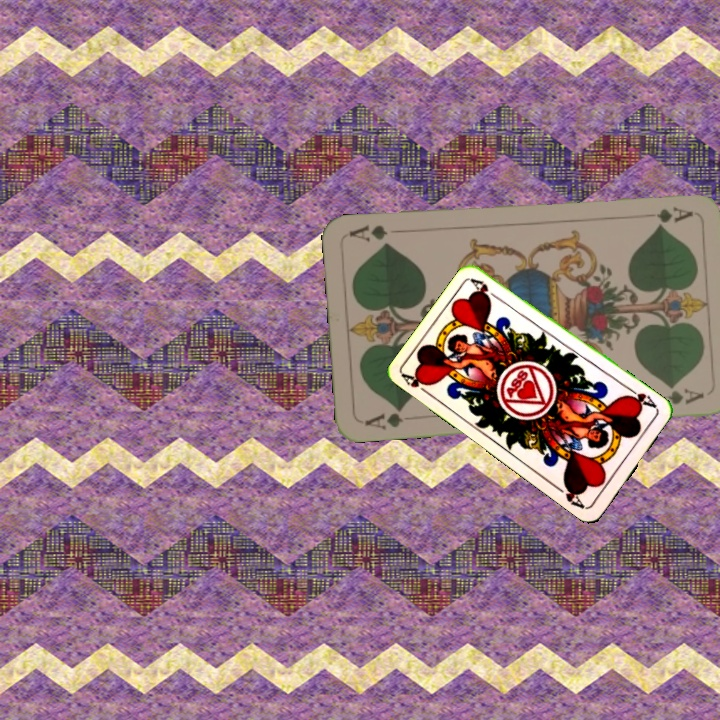GA: (361, 404, 419, 432), (635, 203, 695, 226)
HA: (621, 383, 660, 412), (399, 369, 435, 400)
